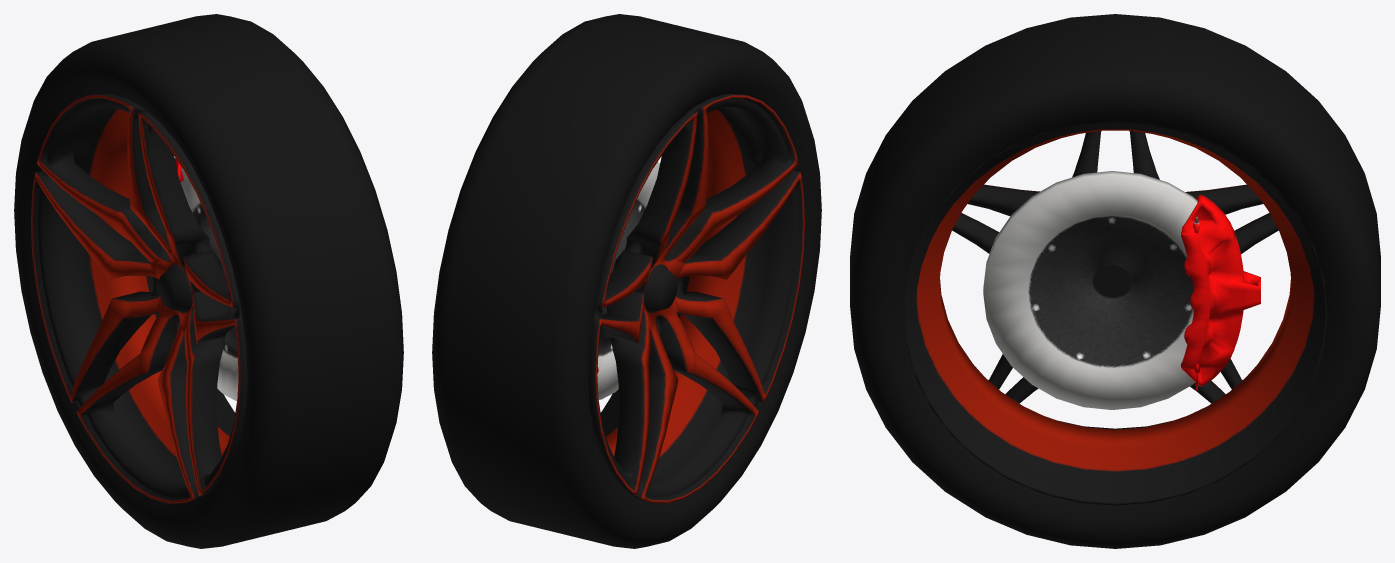
Rendered from Wheel_10.fbx.
3 renders of one model, left to right at view 1: azimuth 30°, elevation 25°; view 2: azimuth 150°, elevation 25°; view 3: azimuth 270°, elevation 25°, orthographic.
Visible parts, largest first — view 1: Wheel_10_LOD0; view 2: Wheel_10_LOD0; view 3: Wheel_10_LOD0, Caliper_LOD0.
Boxes of the visible parts, box(x1,y1,x2,y2) form: Wheel_10_LOD0: box(14, 14, 403, 548); Wheel_10_LOD0: box(432, 14, 821, 548); Wheel_10_LOD0: box(850, 14, 1380, 548); Caliper_LOD0: box(1181, 195, 1260, 390).
Size of what is drawn, in the model's own units: 0.2267 by 0.6978 by 0.6978.
